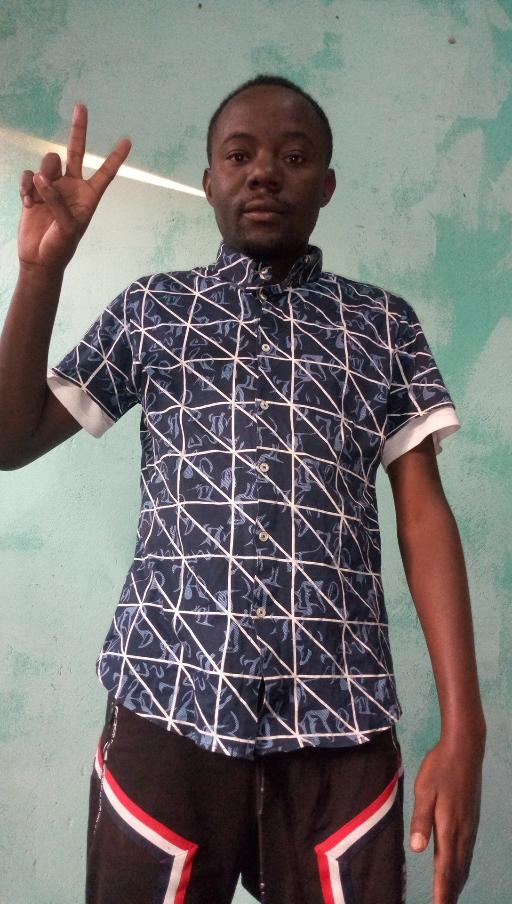no_gesture: (407, 736, 491, 903)
peace: (12, 99, 134, 272)
